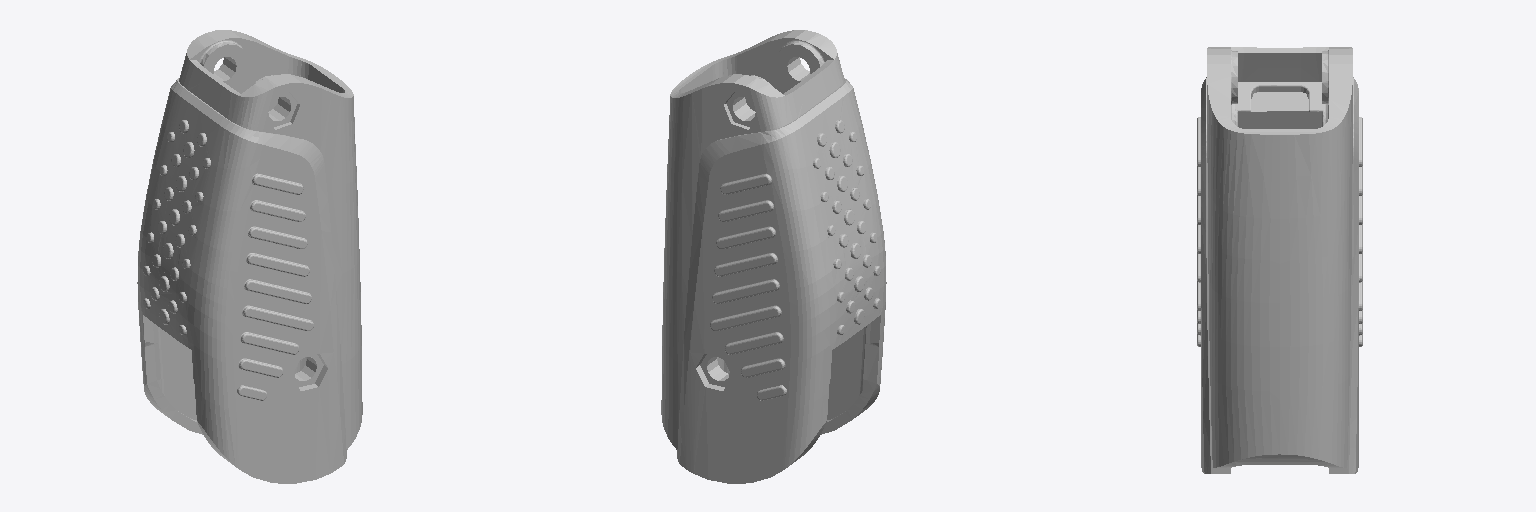
The model's file is right_ring_1_visuals.obj.
The picture shows the model from 3 angles: view 1: azimuth 30°, elevation 25°; view 2: azimuth 150°, elevation 25°; view 3: azimuth 270°, elevation 25°; orthographic projection.
Bounding box in the file's own units: 0.0242 × 0.0492 × 0.0184.